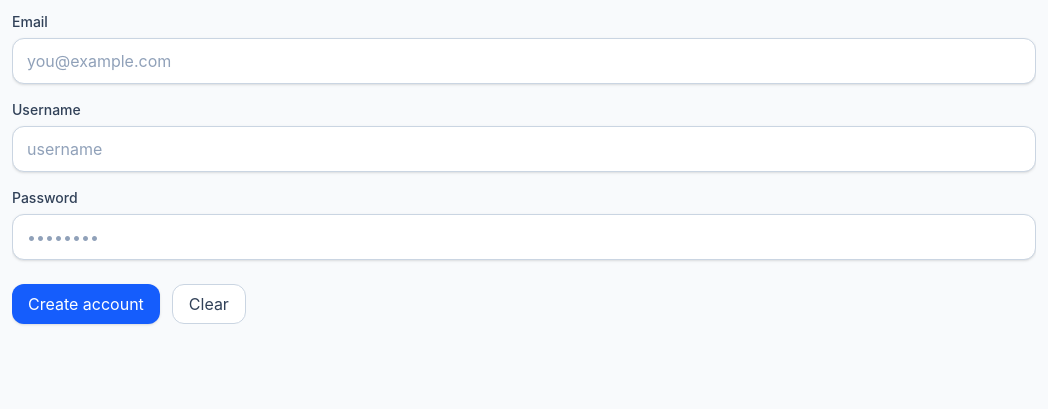
SignUp › shows validation errors on empty submit
The width and height of the screenshot is (1048, 409).
Click the button "Create account" at (86, 304), box [12, 284, 160, 324]
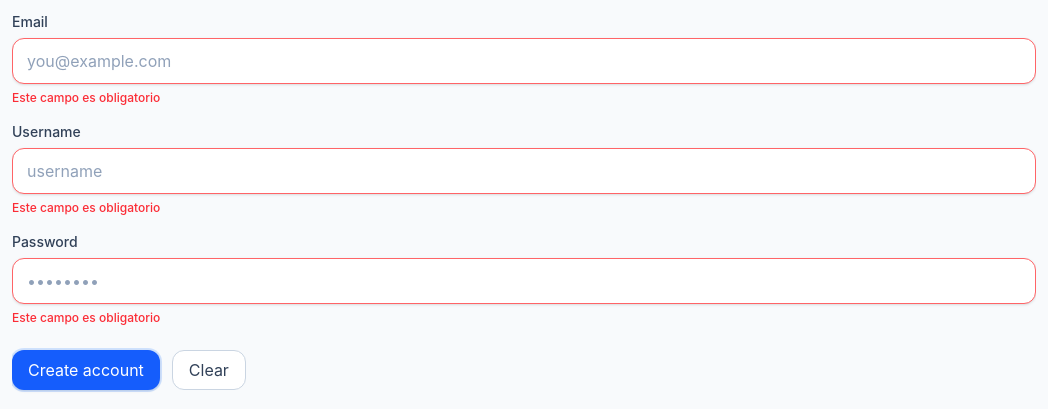
Expected: the text "Este campo es obligatorio" is shown 3 times, [12, 90, 160, 105]; [12, 200, 160, 215]; [12, 310, 160, 325]
